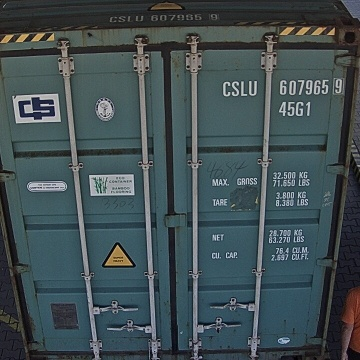serial_id: (223, 78, 344, 96)
